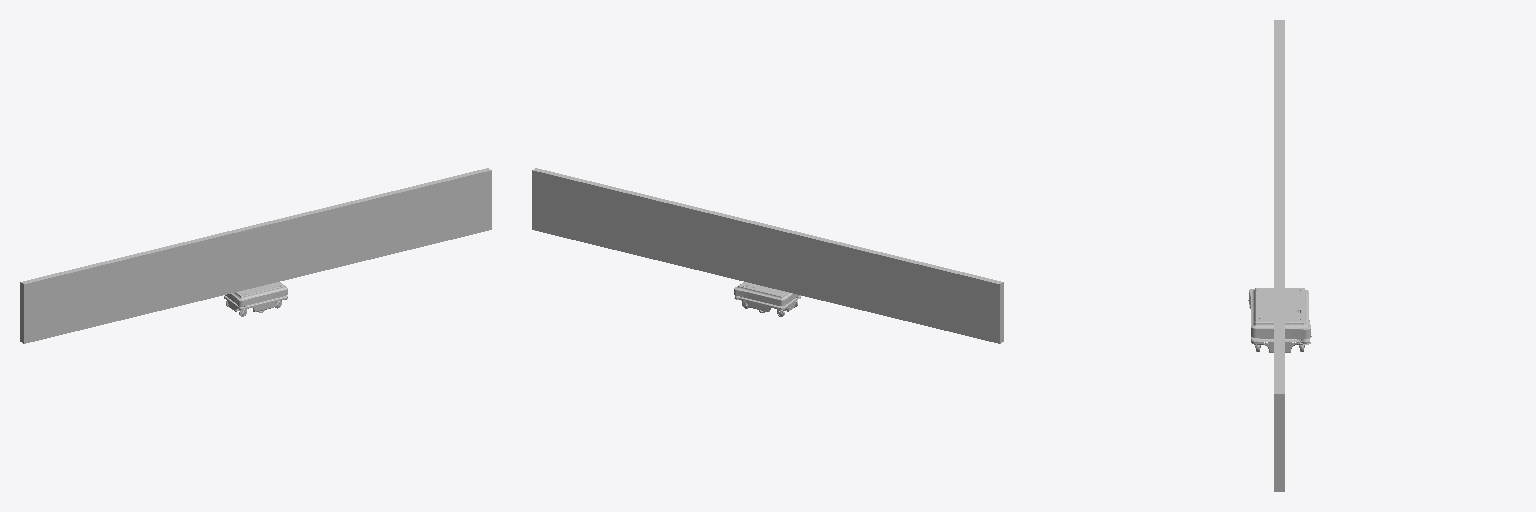
robot.urdf — mir:
<?xml version="1.0"?>
<robot name="mir">
  <link name="base_link">
    <visual>
      <geometry>
        <mesh filename="package://mir_description/meshes/mir100_v_1_5.stl"/>
      </geometry>
      <material name="light grey">
        <color rgba="0.8 0.8 .8 1"/>
      </material>
    </visual>
    <collision>
      <geometry>
        <box size="0.900 0.600 0.358"/>
      </geometry>
      <origin rpy="0 0 0" xyz="0 0 0.179"/>
    </collision>
  </link>

  <joint name="base_to_imu" type="fixed">
    <parent link="base_link"/>
    <child link="imu_link"/>
    <origin xyz="0.000 0.000 0.250" rpy="0 0 0" />
  </joint>

  <link name="imu_link">
    <visual>
      <geometry>
        <box size="8.2 0.1 1.0"/>
      </geometry>
      <origin rpy="0 0 0" xyz="0 0 0.608"/>
      <material name="light grey">
        <color rgba="0.8 0.8 .8 1"/>
      </material>
    </visual>
    <collision>
      <geometry>
        <box size="8.2 0.1 1.0"/>
      </geometry>
      <origin rpy="0 0 0" xyz="0 0 0.608"/>
    </collision>
  </link>
</robot>

--- Render facts (derived) ---
Views: 3 orthographic renders of the robot side by side, from view 1: azimuth 30°, elevation 25°; view 2: azimuth 150°, elevation 25°; view 3: azimuth 270°, elevation 25°.
Robot: mir — 2 links, 1 joints (1 fixed); root link base_link; default pose: every joint at zero.
Links seen in each view (by area): view 1: imu_link, base_link; view 2: imu_link, base_link; view 3: imu_link, base_link.
Link boxes in pixels (x1,y1,x2,y2): imu_link: (20, 168, 491, 343); base_link: (224, 282, 287, 316); imu_link: (532, 168, 1003, 343); base_link: (734, 282, 800, 316); imu_link: (1274, 20, 1284, 491); base_link: (1248, 288, 1311, 352).
Size in the robot's own frame: 8.2 by 0.5849 by 1.36 metres.
1 mesh visuals loaded from 1 distinct referenced files (1 binary STL).